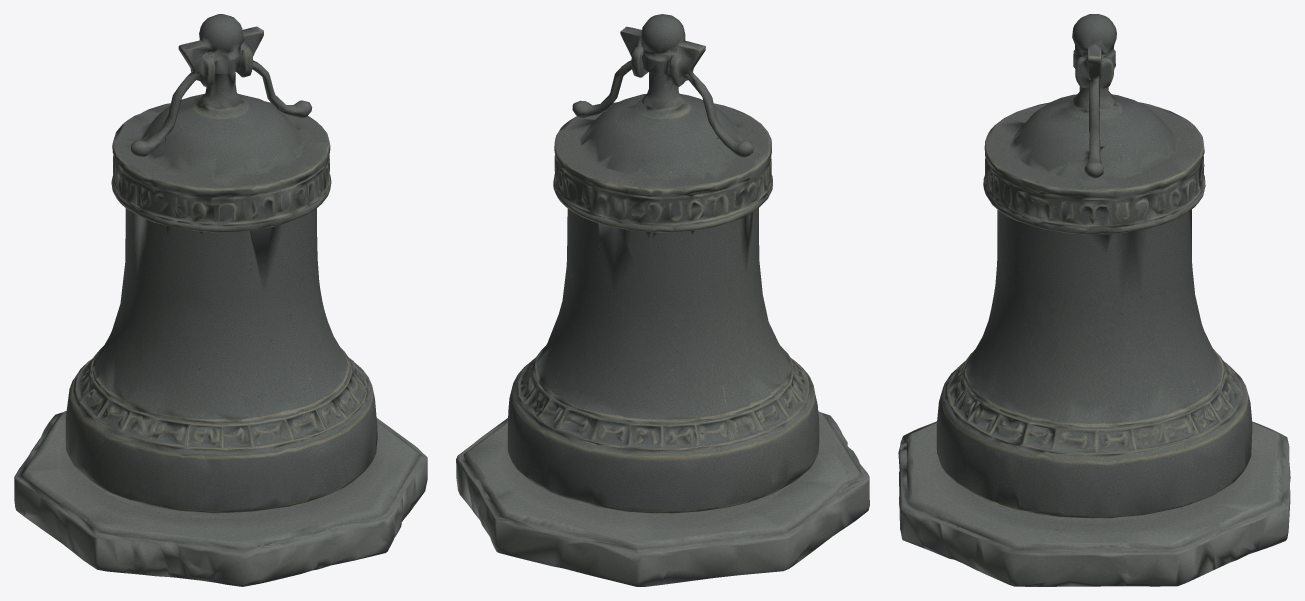
File: ritual-bell.glb
The picture shows the model from 3 angles, left to right: view 1: azimuth 30°, elevation 25°; view 2: azimuth 150°, elevation 25°; view 3: azimuth 270°, elevation 25°; orthographic projection.
Size of the model in its own units: 1.38 by 1.9 by 1.38.
Materials: 1 (1 with a texture image).
